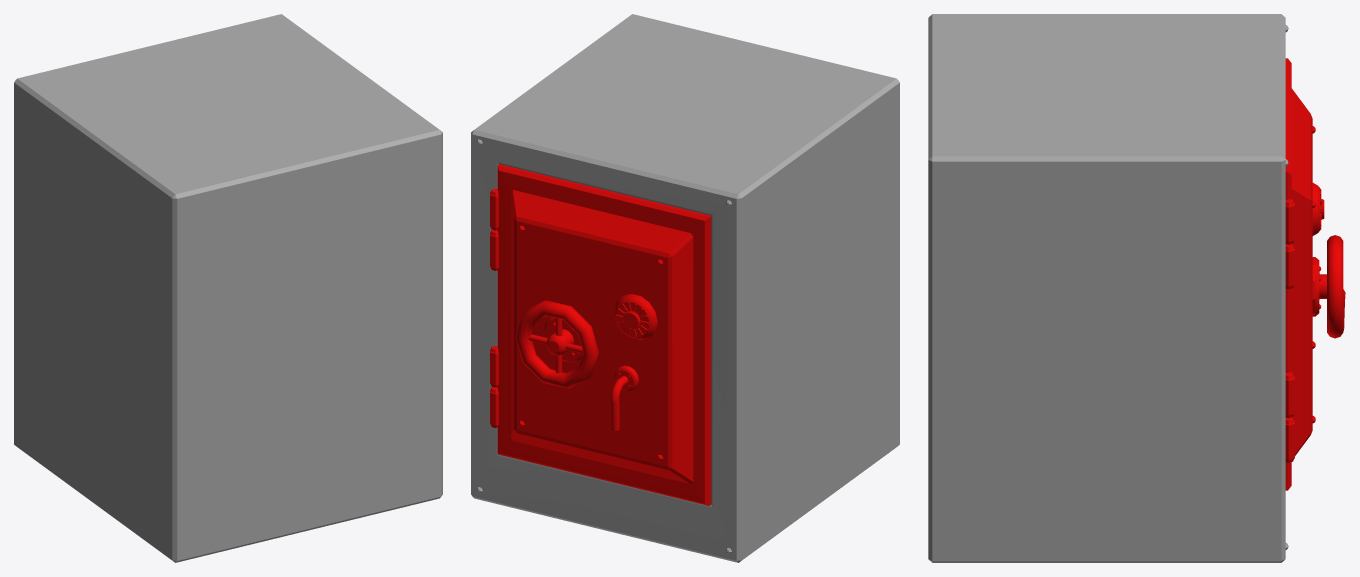
File: VaultSafe.fbx
3 views of the same model, side by side, from view 1: azimuth 30°, elevation 25°; view 2: azimuth 150°, elevation 25°; view 3: azimuth 270°, elevation 25° (orthographic). The views are drawn at different scales.
Visible parts, largest first — view 1: Safe; view 2: Safe, Safe_door, Wheel; view 3: Safe, Safe_door, Wheel.
Part boxes in pixels (box(x1,y1,x2,y2)): Safe: box(14, 14, 442, 562); Safe: box(471, 14, 899, 562); Safe_door: box(490, 164, 711, 505); Wheel: box(515, 300, 599, 388); Safe: box(928, 14, 1288, 562); Safe_door: box(1285, 58, 1345, 490); Wheel: box(1319, 235, 1343, 338).
Size of the model in its own units: 69.13 by 89.98 by 83.63.
